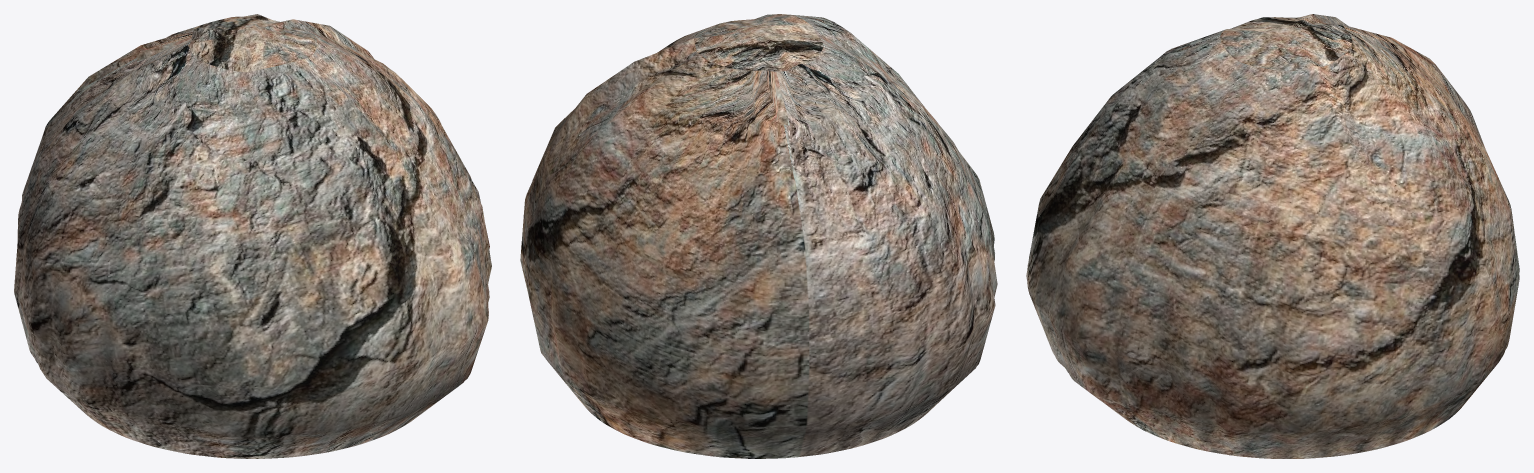
File: Iron.obj
3 renders of one model, left to right at view 1: azimuth 30°, elevation 25°; view 2: azimuth 150°, elevation 25°; view 3: azimuth 270°, elevation 25°, orthographic.
Parts seen in each view (by area): view 1: Cone; view 2: Cone; view 3: Cone.
Boxes of the visible parts, bbox=[...] form: Cone: bbox=[14, 14, 491, 458]; Cone: bbox=[520, 14, 997, 458]; Cone: bbox=[1026, 14, 1519, 458].
Bounding box in the file's own units: 2.69 × 2.09 × 2.65.
1 material, 1 textured.
